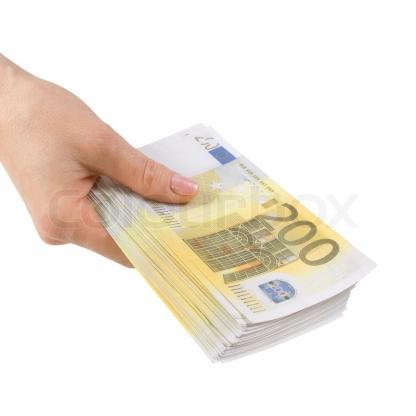billete: (84, 121, 380, 363)
